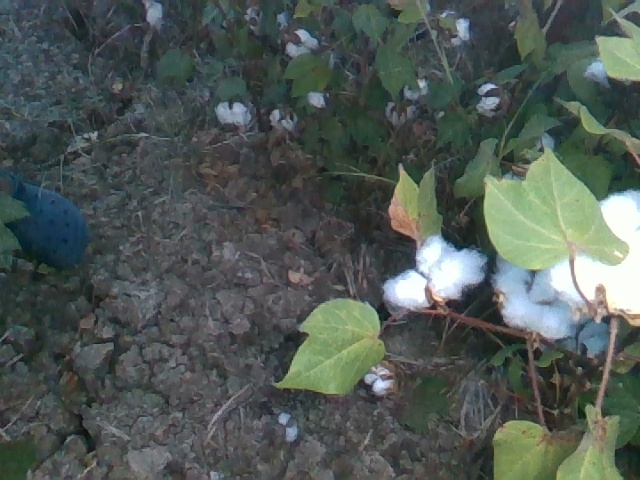cotton: (574, 189, 640, 306), (493, 258, 576, 337), (418, 236, 486, 305), (558, 319, 614, 357), (384, 271, 428, 307), (284, 27, 316, 56), (216, 102, 249, 126), (476, 83, 497, 115), (585, 59, 610, 84), (270, 108, 297, 131), (365, 370, 392, 393), (386, 102, 414, 124), (141, 1, 162, 26), (535, 133, 557, 156), (405, 80, 429, 99), (453, 16, 470, 42), (309, 93, 326, 110), (274, 12, 287, 26)
